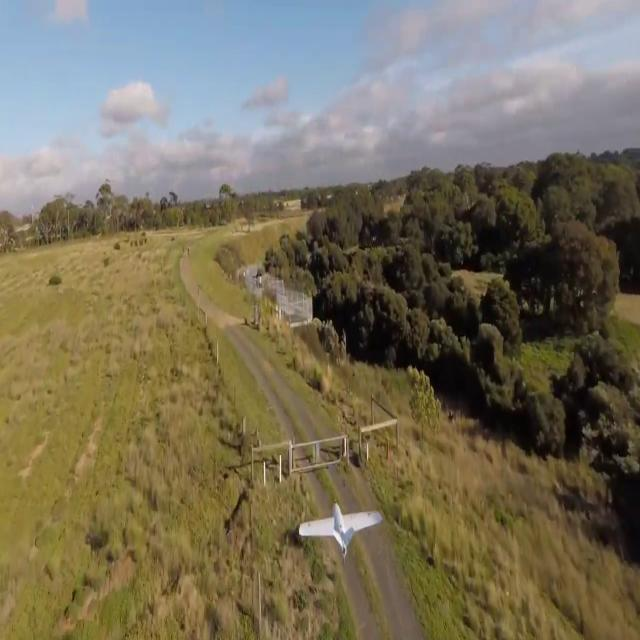iha: (327, 493, 352, 543)
